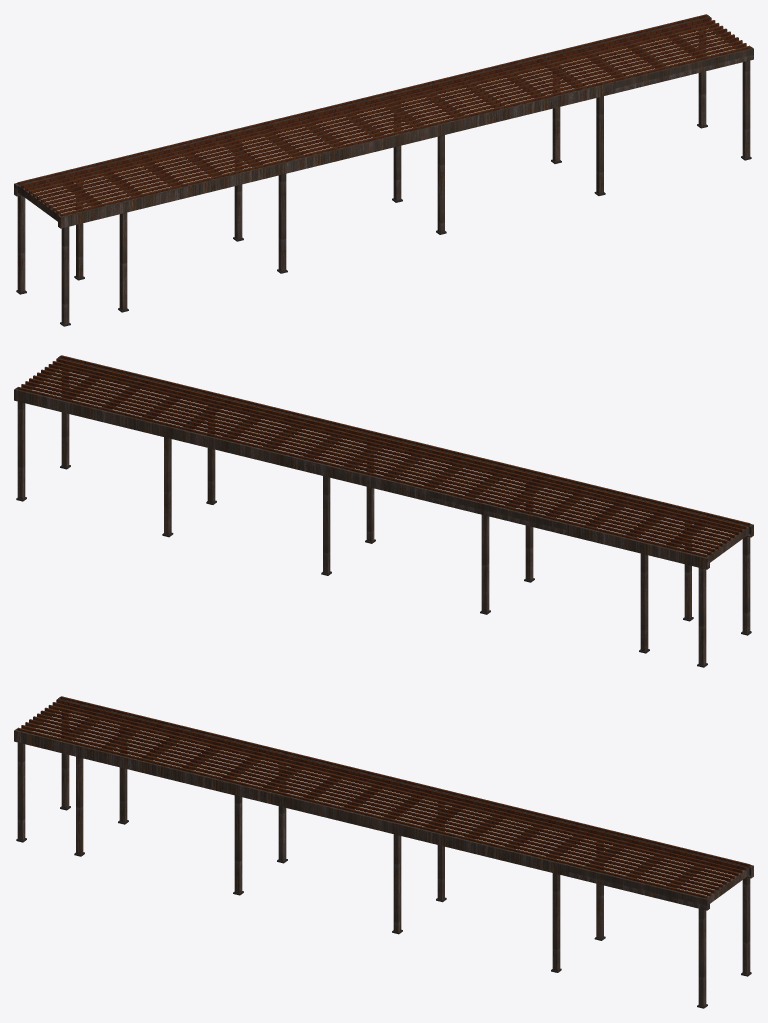
Rendered from walkway_pergola.glb.
The picture shows the model from 3 angles, top to bottom: view 1: azimuth 30°, elevation 25°; view 2: azimuth 150°, elevation 25°; view 3: azimuth 330°, elevation 25°; orthographic projection.
Parts seen in each view (by area): view 1: walkway_pergola; view 2: walkway_pergola; view 3: walkway_pergola.
Part boxes in pixels (x1,y1,x2,y2): walkway_pergola: [14, 14, 753, 326]; walkway_pergola: [14, 355, 753, 667]; walkway_pergola: [14, 696, 753, 1008].
Size of the model in its own units: 20.07 by 3.07 by 2.4.
Materials: 1 (1 with a texture image).
